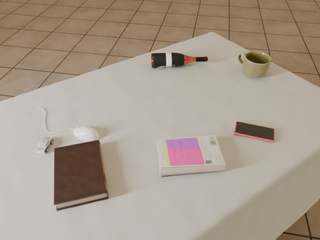book: (54, 140, 108, 211), (157, 135, 226, 177)
bottle: (151, 53, 208, 68)
cup: (238, 51, 271, 77)
mouse: (73, 126, 99, 141)
phone: (234, 122, 274, 142)
toy_car: (36, 137, 53, 154)
